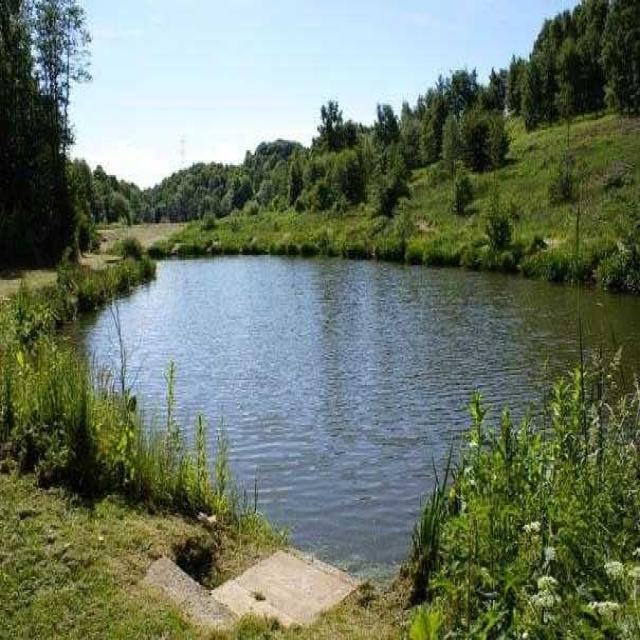Ponds: (24, 244, 639, 585)
